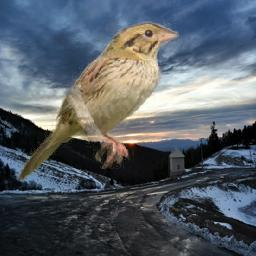Sparrow: (17, 21, 179, 181)
